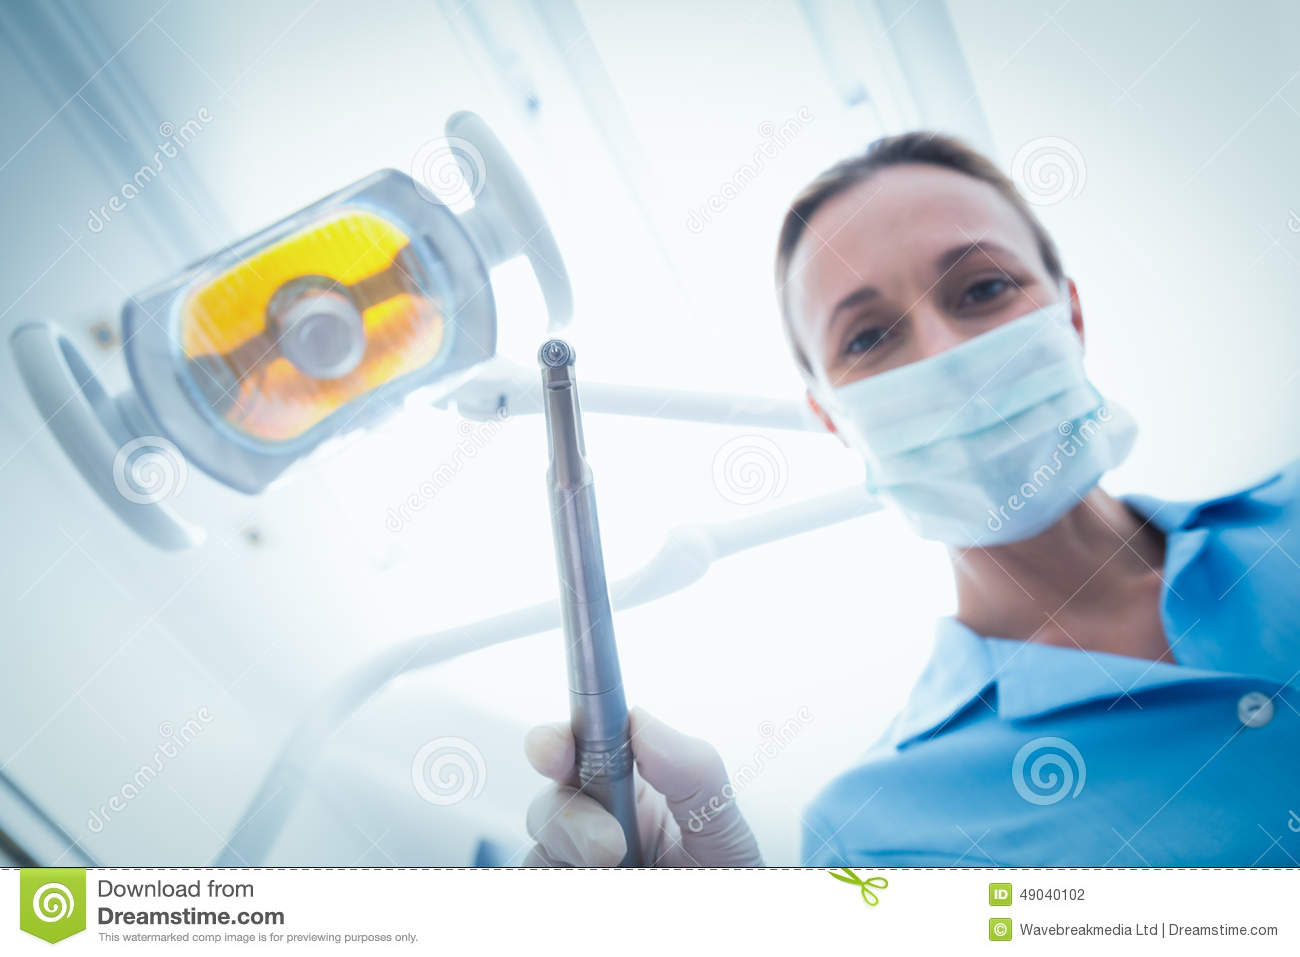mask: (816, 317, 1148, 530)
